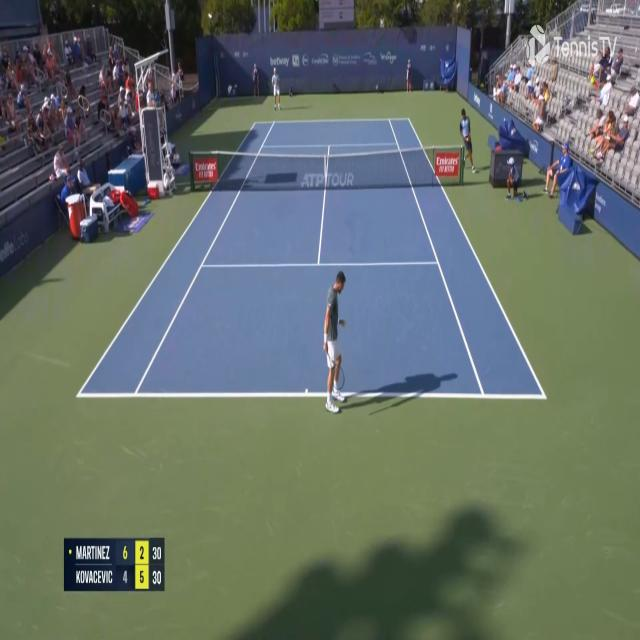tennis-player: (321, 265, 349, 416), (272, 66, 282, 111)
